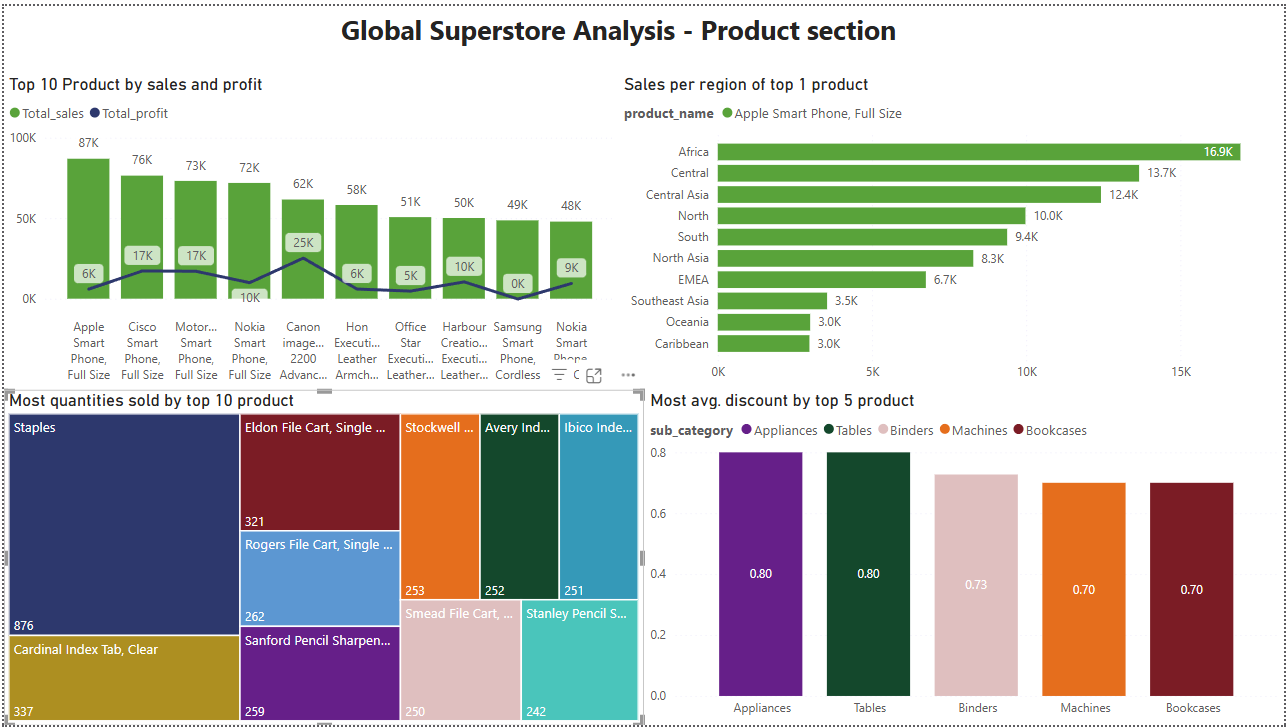

The page's visual inventory and layout, read from the dashboard file:
{"tool":"powerbi","page":{"name":"Product analysis 2","canvas":[1280,720],"ordinal":2},"visuals":[{"type":"lineStackedColumnComboChart","title":"Top 10 Product by sales and profit","fields":{"Category":["public superstore.product_name"],"Y2":["public superstore.Total_profit"],"Y":["public superstore.Total_sales"]},"box":[0,67.5,615,316.2],"z":0},{"type":"barChart","title":"Sales per region of top 1 product","fields":{"Category":["public superstore.region"],"Y":["public superstore.Total_sales"],"Series":["public superstore.product_name"]},"box":[615,67.5,665,316.2],"z":1000},{"type":"textbox","box":[107.5,0,1014.3,45.7],"z":2000},{"type":"treemap","title":"Most quantities sold by top 10 product","fields":{"Group":["public superstore.product_name"],"Values":["public superstore.Total_quantity"]},"box":[0,384.2,639.5,336.2],"z":3000},{"type":"columnChart","title":"Most avg. discount by top 5 product","fields":{"Y":["Avg(public superstore.discount)"],"Category":["public superstore.sub_category"],"Series":["public superstore.sub_category"]},"box":[640.8,384.2,639.5,336.2],"z":4000}]}

Visuals, with their boxes in screenshot pixels (x1, y1, x2, y2), scaled from the page's 1280x720 canvas onto the 1286x727 screenshot:
"Top 10 Product by sales and profit" lineStackedColumnComboChart: bbox(0, 68, 618, 387)
"Sales per region of top 1 product" barChart: bbox(618, 68, 1285, 387)
textbox: bbox(108, 0, 1127, 46)
"Most quantities sold by top 10 product" treemap: bbox(0, 388, 642, 726)
"Most avg. discount by top 5 product" columnChart: bbox(644, 388, 1285, 726)
